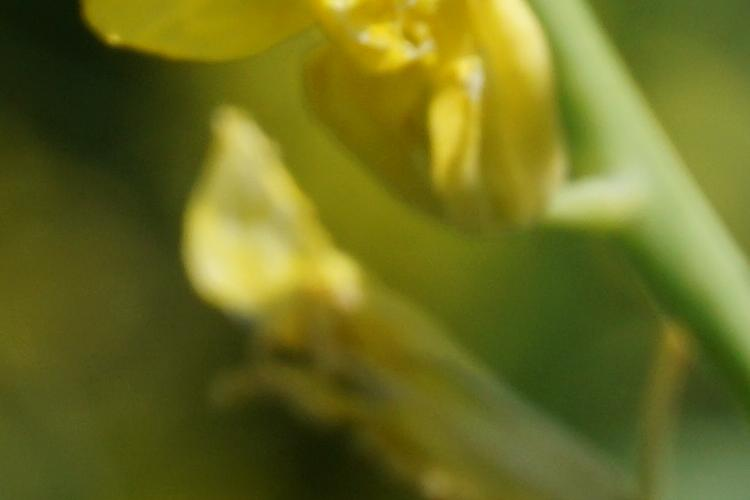yellow: (157, 166, 467, 457), (142, 16, 591, 215)
